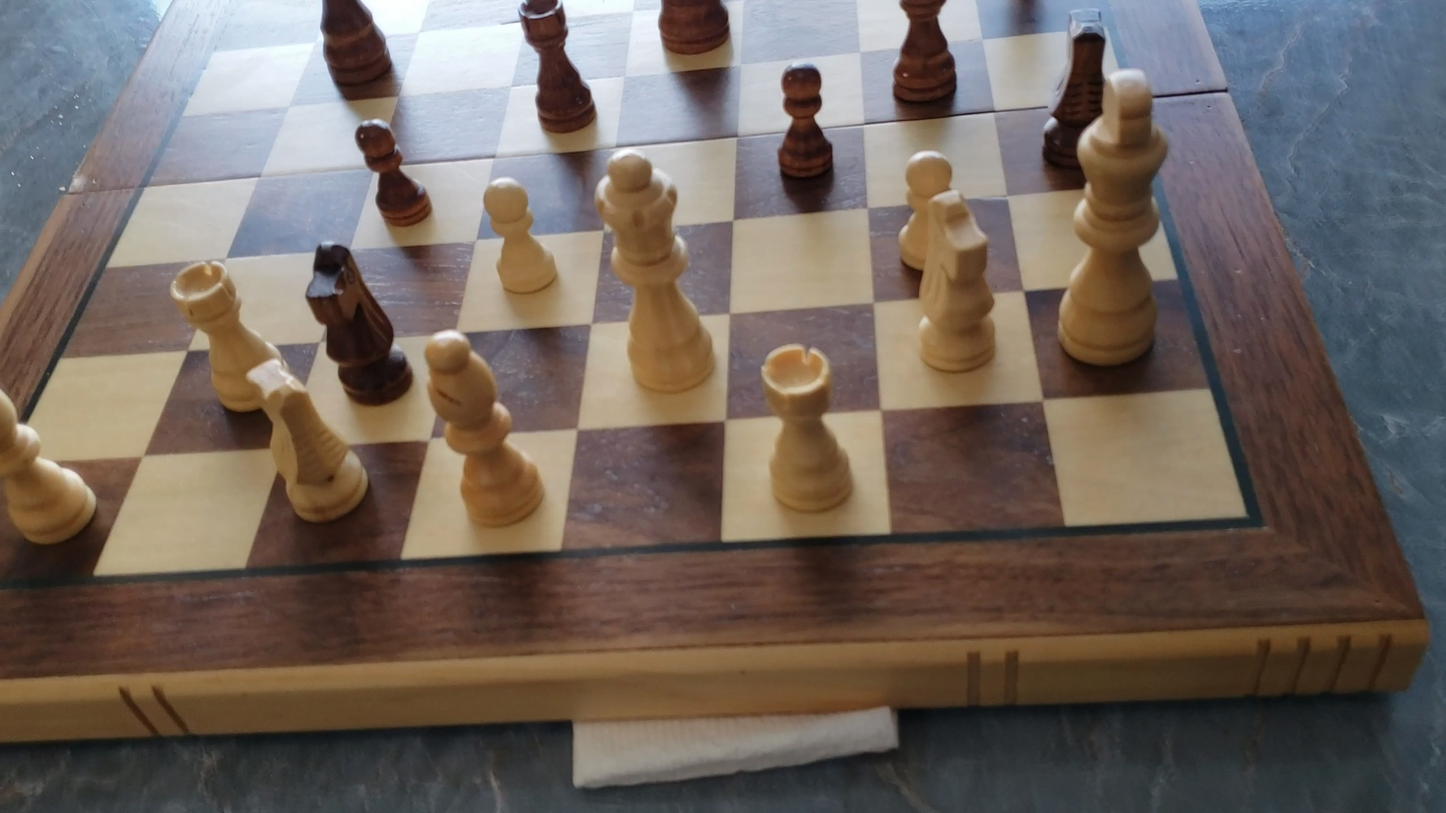black-knight: (304, 237, 412, 404), (1039, 5, 1114, 168)
black-pawn: (351, 115, 433, 229), (773, 56, 834, 182)
black-rook: (517, 1, 597, 134)
white-bishop: (418, 326, 548, 532), (0, 385, 101, 550)
white-king: (1050, 60, 1177, 376)
white-knight: (236, 356, 376, 528), (910, 185, 1001, 377)
white-pawn: (477, 171, 562, 299)
white-queen: (587, 146, 722, 398)
white-rook: (165, 256, 283, 417), (755, 340, 860, 517)
